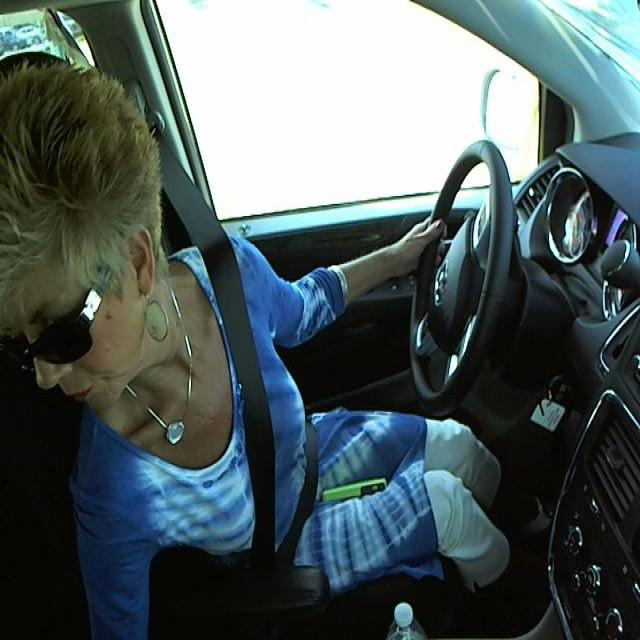seatbelt: (178, 252, 353, 555)
